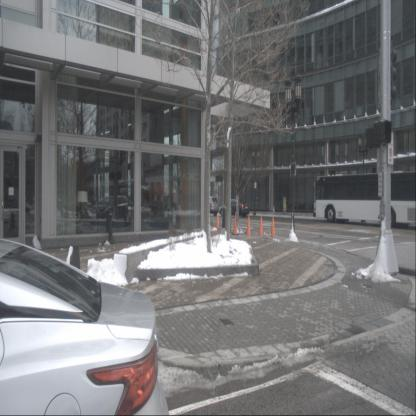movable_object-trafficcone: (245, 215, 252, 236), (269, 216, 276, 237), (258, 215, 264, 236), (232, 214, 238, 235), (215, 214, 220, 230)
vehicle-bus-rigid: (313, 170, 415, 229)
vehicle-car: (0, 238, 170, 416), (96, 195, 129, 223), (219, 198, 250, 218), (197, 196, 219, 216)
